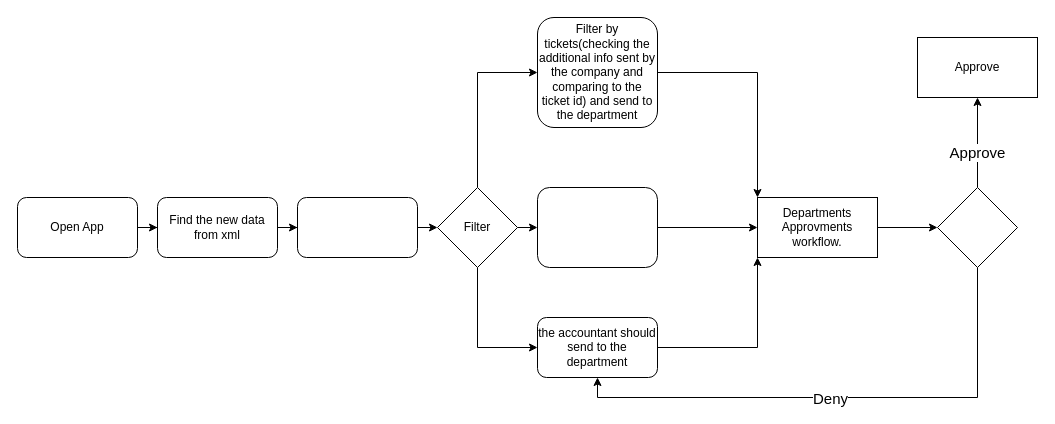
This 1055x424 diagram has some shape labels left out. Each missing label, with the box of its shape:
connect each data with pdf by id and save in table: (296, 196, 418, 258)
Deny or Approve: (936, 186, 1018, 268)
Filter by Ref. Book(check the Vendor TIN) and send to the department by id: (536, 186, 658, 268)
